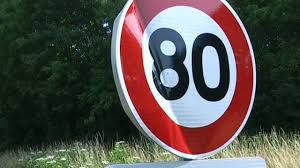Speed_limit_80km: (115, 1, 258, 157)
